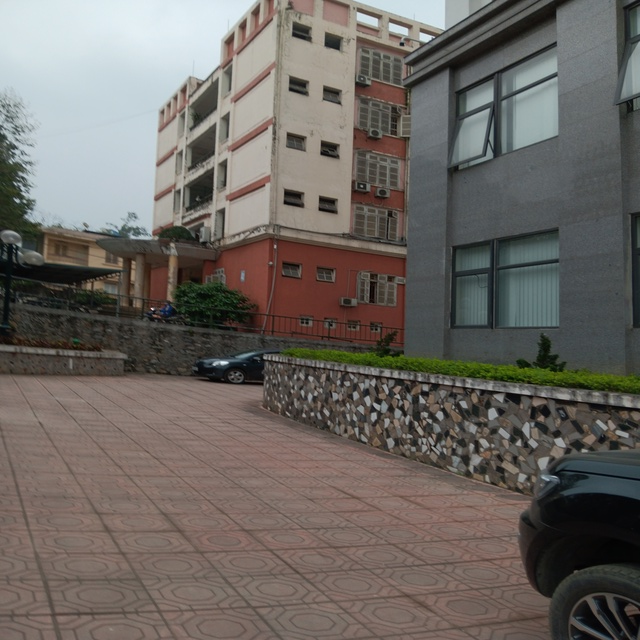cotden: (1, 220, 38, 351)
